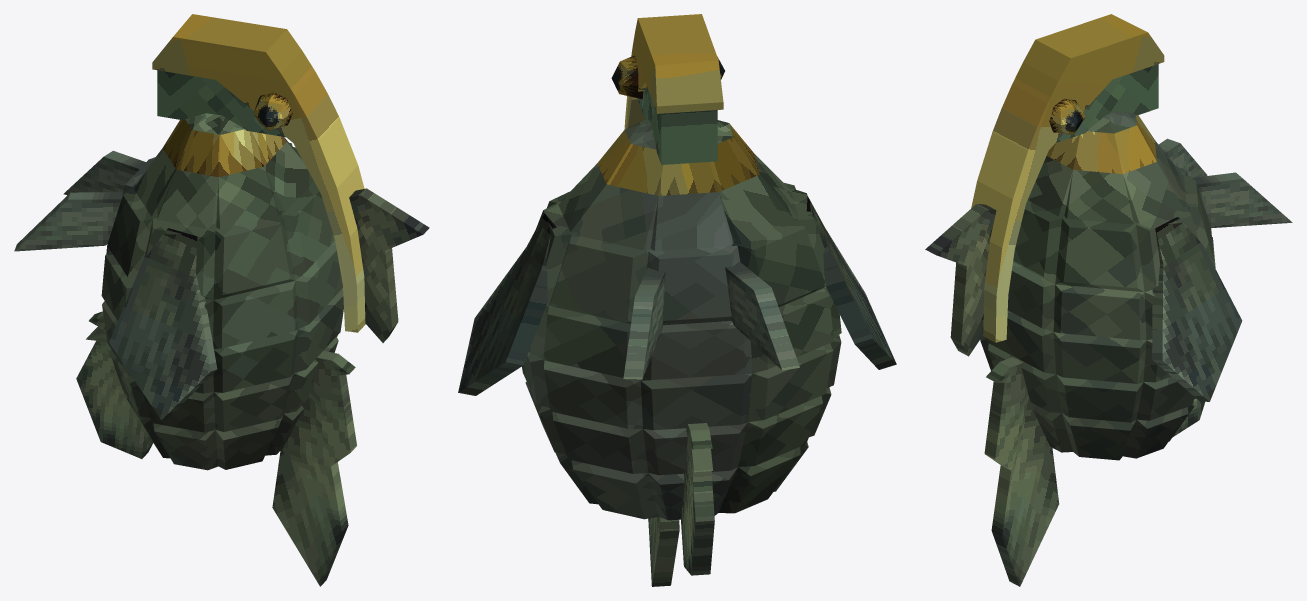
The model's file is item_fish_boomfish.glb.
The picture shows the model from 3 angles, left to right: view 1: azimuth 30°, elevation 25°; view 2: azimuth 150°, elevation 25°; view 3: azimuth 270°, elevation 25°; orthographic projection. The views are drawn at different scales.
Parts seen in each view (by area): view 1: boomfish_body, boomfish_handle; view 2: boomfish_body, boomfish_handle; view 3: boomfish_body, boomfish_handle.
Boxes of the visible parts, x1,y1,x2,y2 form: boomfish_body: [14, 113, 356, 586]; boomfish_handle: [152, 14, 429, 342]; boomfish_body: [458, 120, 896, 586]; boomfish_handle: [611, 14, 724, 164]; boomfish_body: [980, 111, 1292, 586]; boomfish_handle: [925, 14, 1164, 356].
Size of the model in its own units: 0.1714 by 0.2828 by 0.1805.
1 material, 1 textured.
